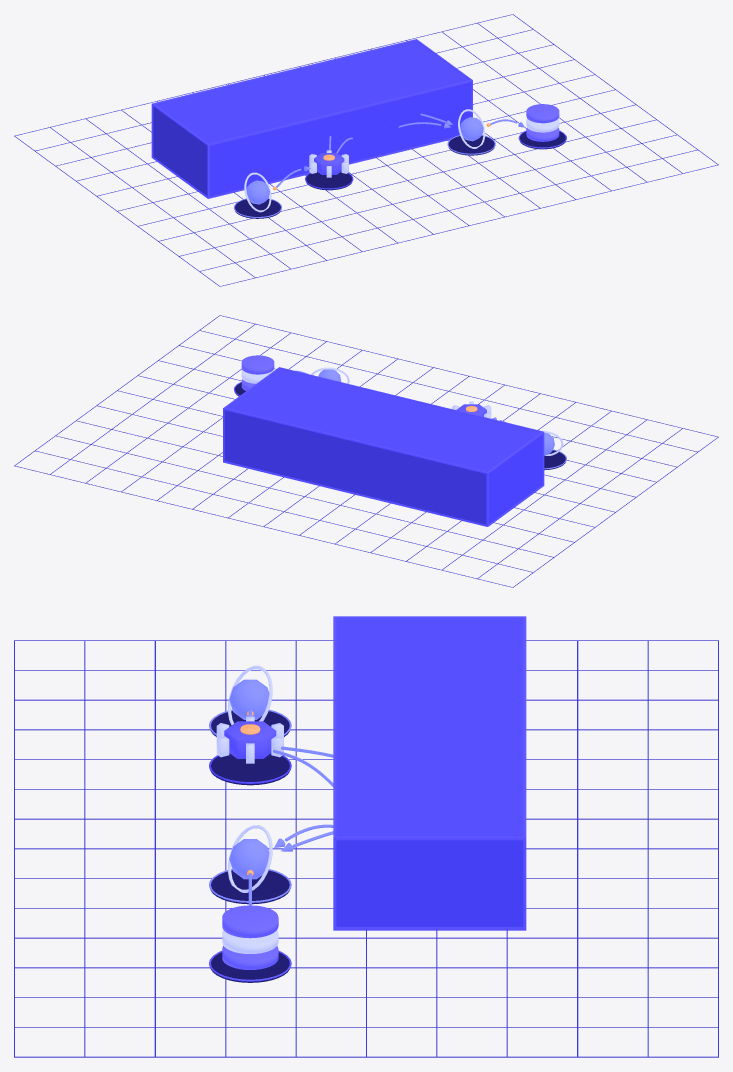
File: kafka.glb
The picture shows the model from 3 angles, top to bottom: view 1: azimuth 30°, elevation 25°; view 2: azimuth 150°, elevation 25°; view 3: azimuth 270°, elevation 25°; orthographic projection. The views are drawn at different scales.
Visible parts, largest first — view 1: group_Brokers, floor, mesh_cg_pad, mesh_topic_pad, mesh_producer_pad, mesh_offsets_disc2, mesh_topic_hex, mesh_producer_orb, mesh_cg_orb; view 2: group_Brokers, floor, mesh_offsets_disc2; view 3: group_Brokers, floor, mesh_topic_pad, mesh_cg_pad, mesh_offsets_disc2, mesh_topic_hex, mesh_cg_orb, mesh_producer_orb, mesh_offsets_pad, mesh_offsets_disc1, mesh_offsets_disc0.
Part boxes in pixels (x1,y1,x2,y2): group_Brokers: (151, 39, 472, 198); floor: (14, 14, 718, 286); mesh_cg_pad: (448, 136, 494, 155); mesh_topic_pad: (306, 171, 351, 190); mesh_producer_pad: (235, 199, 280, 218); mesh_offsets_disc2: (526, 104, 559, 123); mesh_topic_hex: (314, 153, 344, 174); mesh_producer_orb: (246, 180, 269, 204); mesh_cg_orb: (460, 117, 483, 141); group_Brokers: (223, 367, 544, 526); floor: (14, 315, 718, 587); mesh_offsets_disc2: (241, 355, 274, 374); group_Brokers: (333, 616, 526, 930); floor: (14, 640, 718, 1057); mesh_topic_pad: (210, 753, 289, 785); mesh_cg_pad: (210, 870, 289, 904); mesh_offsets_disc2: (222, 905, 278, 938); mesh_topic_hex: (224, 721, 276, 758); mesh_cg_orb: (229, 839, 269, 879); mesh_producer_orb: (229, 679, 269, 719); mesh_offsets_pad: (210, 952, 289, 982); mesh_offsets_disc1: (222, 930, 278, 953); mesh_offsets_disc0: (222, 946, 278, 969).
Size of the model in its own units: 28.03 by 2.91 by 20.03.
